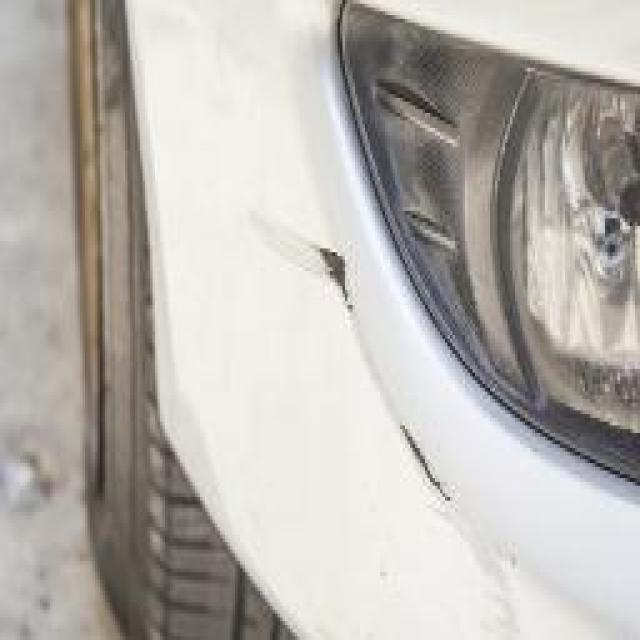Bumper: (205, 158, 470, 621)
